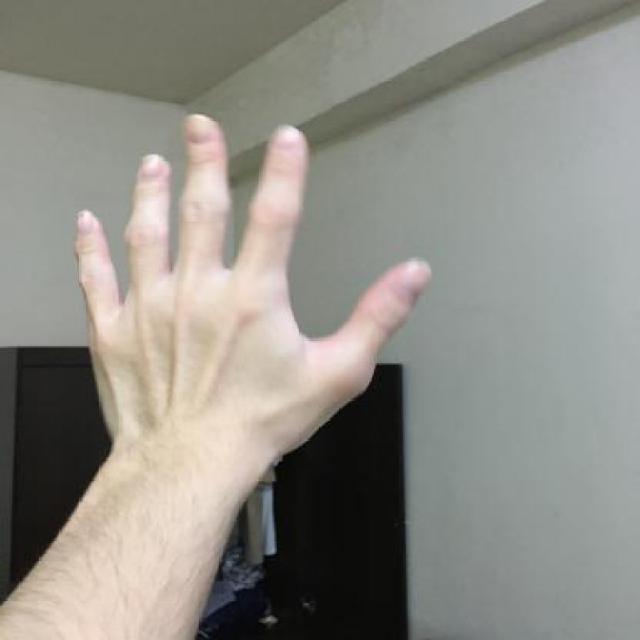hand: (53, 97, 447, 497)
